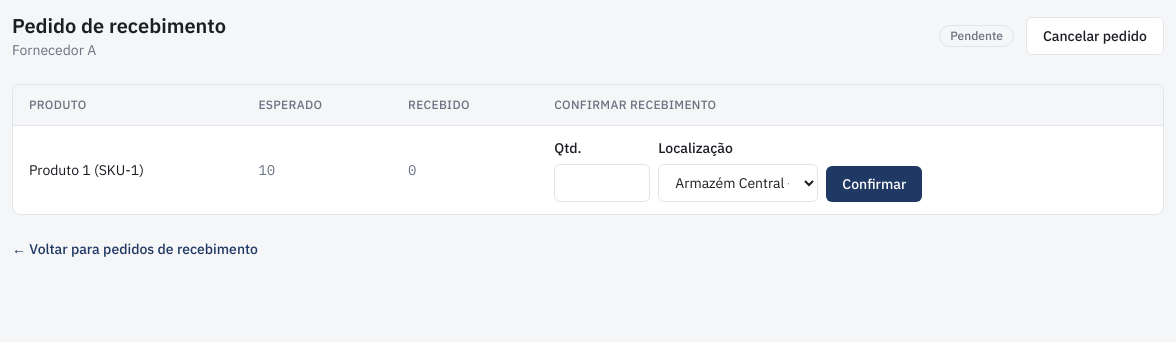
PedidoRecebimentoDetailPage › mostra erro da API ao falhar a confirmação do item
This screenshot has width=1176, height=342.
expect the text "Fornecedor A" is shown: met, box [12,41,96,59]
Step 1. Type "5" into the number field labelled "Qtd." → (602, 183), box [554,164,650,202]
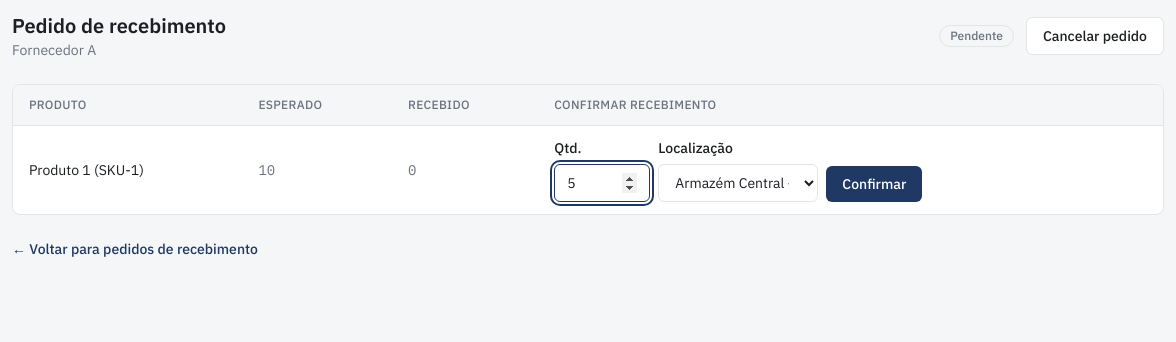
Step 2. Click the button "Confirmar" → (874, 184), box [826,166,922,202]
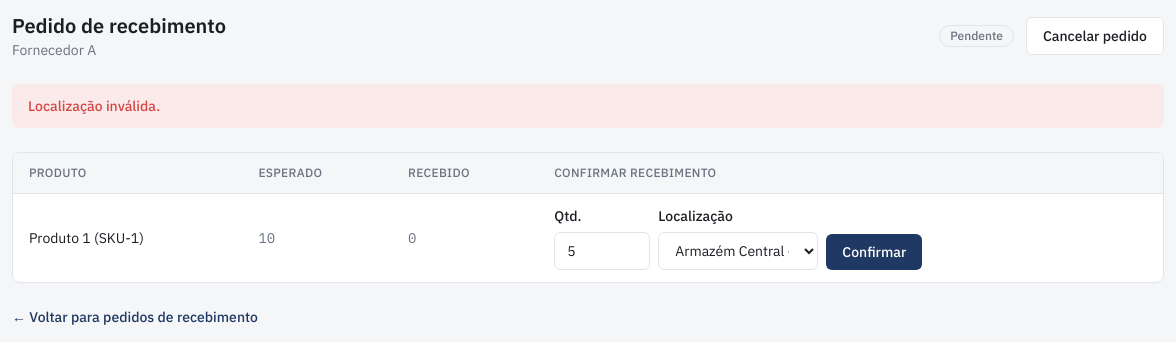
expect the message reads "Localização inválida.": met, box [28,97,160,115]
